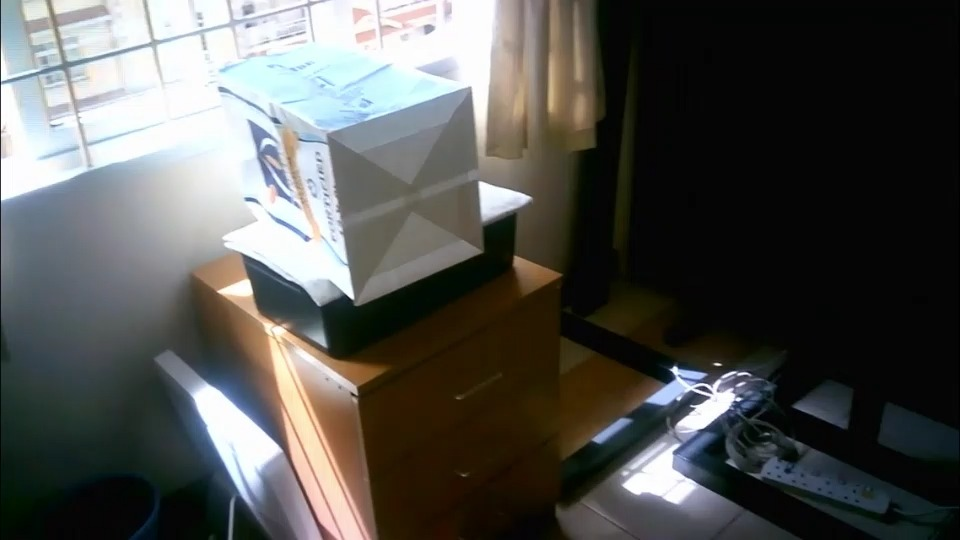wheat_flour_blue_label: (217, 42, 485, 303)
